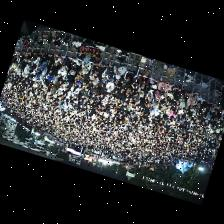person: (123, 60, 140, 83), (57, 59, 70, 77), (63, 68, 75, 85), (29, 53, 40, 71), (157, 81, 171, 94), (92, 62, 105, 76), (171, 86, 185, 99), (139, 70, 149, 88), (81, 82, 91, 98), (36, 60, 47, 74), (186, 92, 195, 109), (113, 65, 125, 77), (70, 58, 81, 71), (150, 105, 159, 120), (79, 69, 90, 81), (53, 52, 63, 65), (129, 78, 137, 94), (46, 63, 57, 74), (113, 74, 123, 86), (155, 93, 170, 101), (105, 78, 114, 91), (119, 80, 128, 93), (106, 64, 114, 78), (81, 61, 90, 73), (146, 88, 155, 100), (164, 99, 174, 109), (50, 80, 59, 91), (202, 99, 211, 110), (100, 84, 107, 98), (164, 89, 172, 101), (195, 93, 202, 106), (94, 79, 103, 89), (90, 86, 99, 96), (149, 78, 158, 88), (39, 52, 48, 62), (92, 73, 101, 83), (168, 109, 176, 120), (101, 68, 107, 82), (43, 73, 52, 82), (49, 75, 57, 85), (117, 93, 125, 103), (178, 97, 184, 110), (101, 93, 108, 104), (209, 100, 216, 111), (22, 64, 29, 75), (24, 51, 32, 60), (47, 54, 54, 64), (10, 61, 17, 71), (17, 51, 25, 58), (183, 102, 188, 112), (27, 58, 33, 64), (221, 108, 223, 118)
